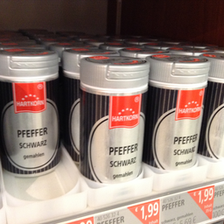spices: (80, 55, 151, 184), (144, 53, 211, 169), (1, 49, 59, 178)
